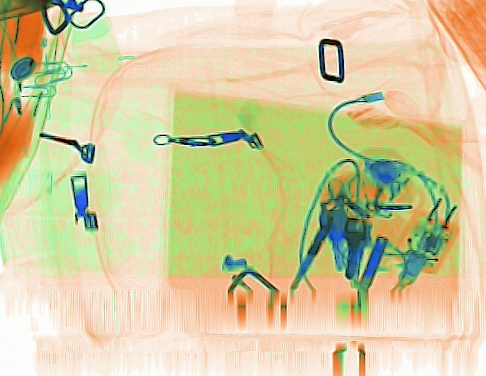scissors: (287, 170, 359, 293)
